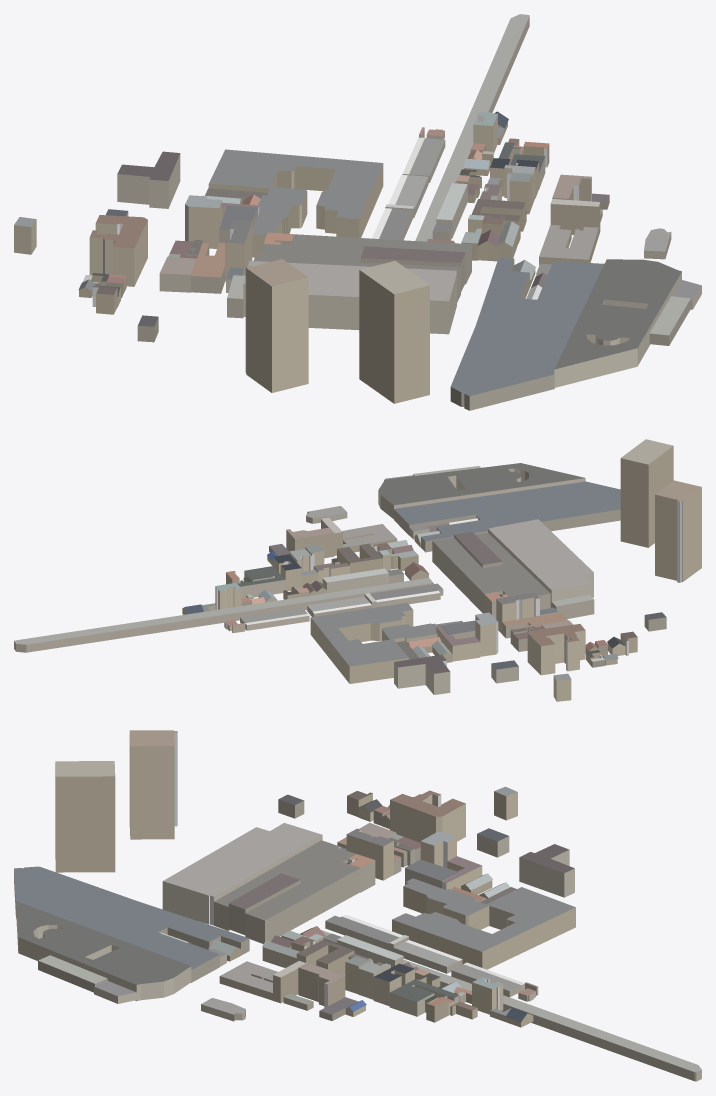
3 views of the same model, one above another, from view 1: azimuth 30°, elevation 25°; view 2: azimuth 150°, elevation 25°; view 3: azimuth 270°, elevation 25° (orthographic). The views are drawn at different scales.
Visible parts, largest first — view 1: tuile; view 2: tuile; view 3: tuile.
Boxes of the visible parts, left/top/right/bottom form: tuile: left=14, top=14, right=701, bottom=410; tuile: left=14, top=439, right=701, bottom=701; tuile: left=14, top=730, right=701, bottom=1081.
Bounding box in the file's own units: 324 × 62.82 × 352.
